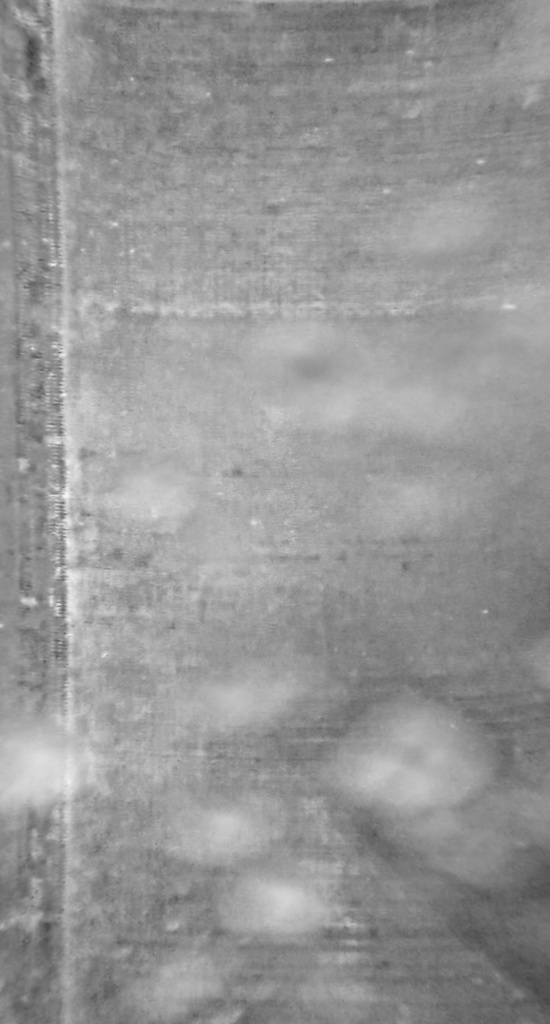splice: (1, 1, 97, 1022)
